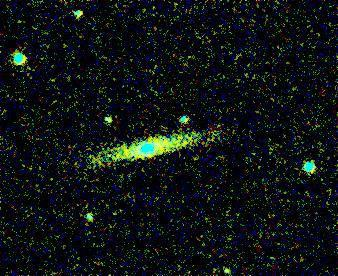star: (211, 253, 241, 276)
